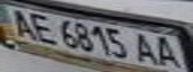1: (87, 24, 109, 55)
5: (106, 26, 133, 60)
6: (51, 18, 78, 50)
8: (69, 20, 93, 53)
A: (151, 34, 184, 70), (3, 7, 39, 38), (130, 32, 163, 65)
E: (21, 11, 60, 44)
